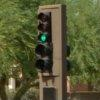Traffic light: (30, 9, 63, 78)
